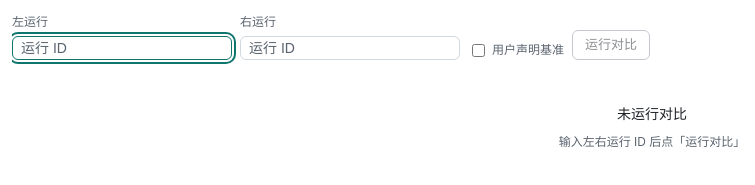
Scenario: §9.1 左右 run 选择器 › 可搜索下拉：focus 时显示 listbox + option
Focus the field labelled "左运行" at (122, 48), box x1=12 y1=36 x2=232 y2=60
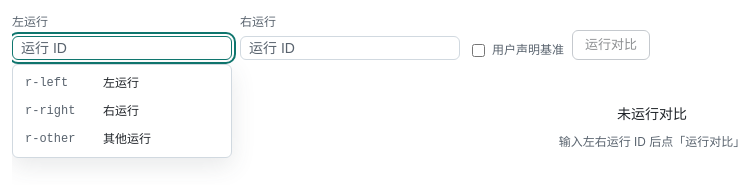
Now the list with class "team-compare-view-listbox" is shown, box x1=12 y1=64 x2=232 y2=158
Now the number of options with class "team-compare-view-option" is 3, box x1=25 y1=75 x2=139 y2=90; x1=25 y1=103 x2=139 y2=118; x1=25 y1=131 x2=151 y2=146
